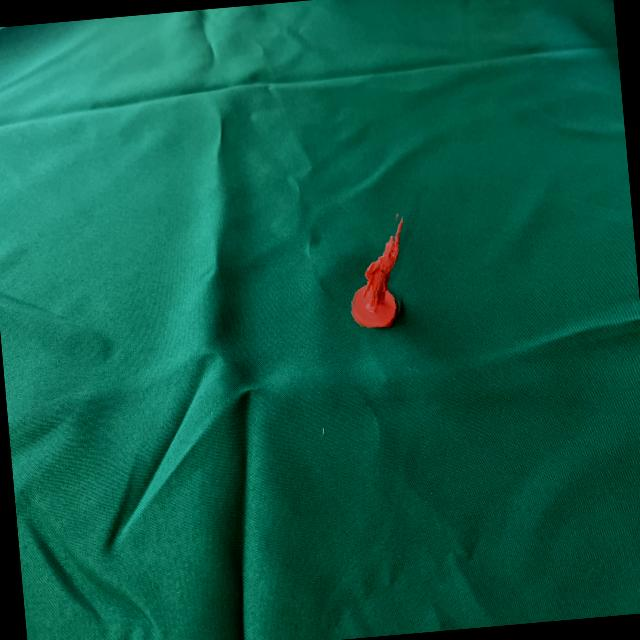amon_follower: (352, 217, 403, 327)
